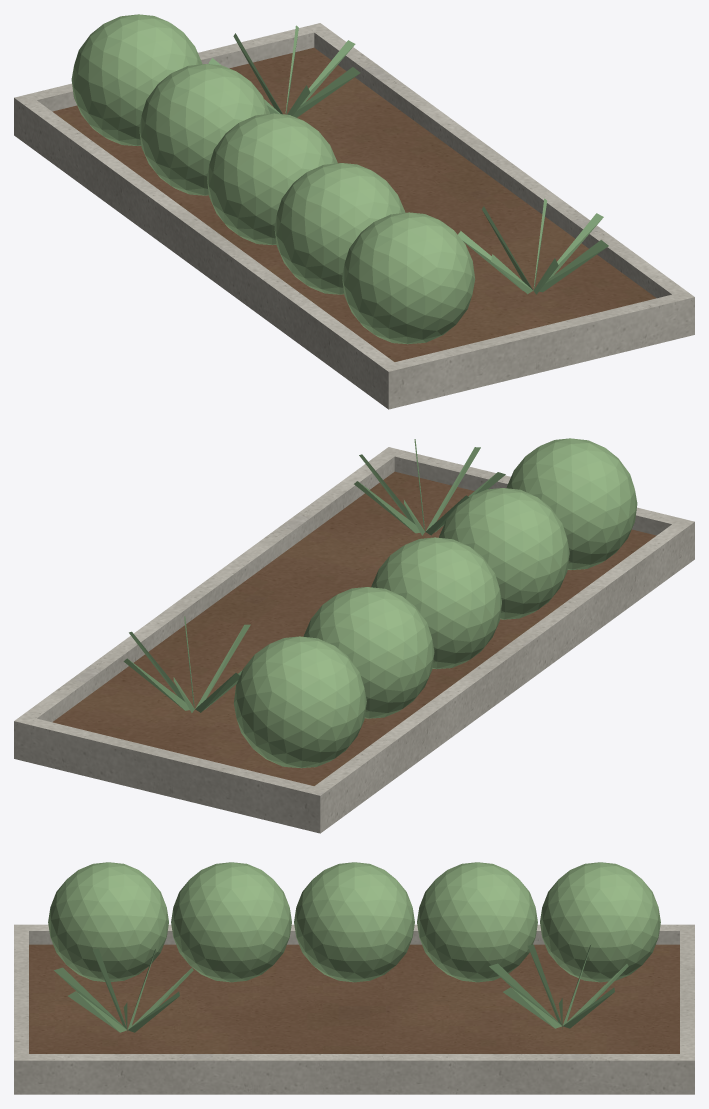
File: bed_planting.glb
The picture shows the model from 3 angles, top to bottom: view 1: azimuth 30°, elevation 25°; view 2: azimuth 150°, elevation 25°; view 3: azimuth 270°, elevation 25°; orthographic projection. The views are drawn at different scales.
Visible parts, largest first — view 1: bed_planting_hedge, bed_planting_concrete, bed_planting_mulch, bed_planting_plant; view 2: bed_planting_hedge, bed_planting_concrete, bed_planting_mulch, bed_planting_plant; view 3: bed_planting_hedge, bed_planting_mulch, bed_planting_concrete, bed_planting_plant.
Part boxes in pixels (bbox=[...]): bed_planting_hedge: bbox=[71, 14, 475, 344]; bed_planting_concrete: bbox=[14, 23, 694, 409]; bed_planting_mulch: bbox=[52, 47, 656, 361]; bed_planting_plant: bbox=[208, 25, 608, 294]; bed_planting_hedge: bbox=[233, 438, 637, 768]; bed_planting_concrete: bbox=[14, 447, 694, 833]; bed_planting_mulch: bbox=[52, 471, 656, 785]; bed_planting_plant: bbox=[123, 439, 505, 712]; bed_planting_hedge: bbox=[48, 862, 660, 982]; bed_planting_mulch: bbox=[29, 944, 679, 1053]; bed_planting_concrete: bbox=[14, 924, 694, 1094]; bed_planting_plant: bbox=[54, 944, 628, 1032].
Bounding box in the file's own units: 1.7 × 0.72 × 3.6.
Materials: 4 (2 with a texture image).
